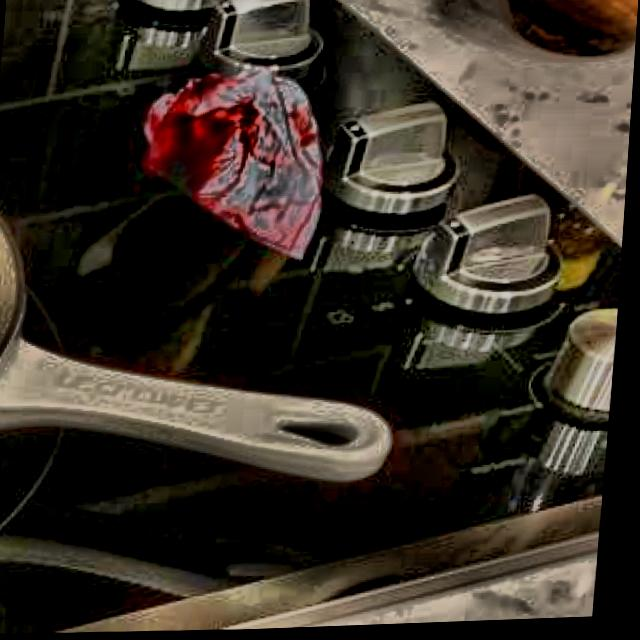Plastic: (130, 61, 353, 285)
